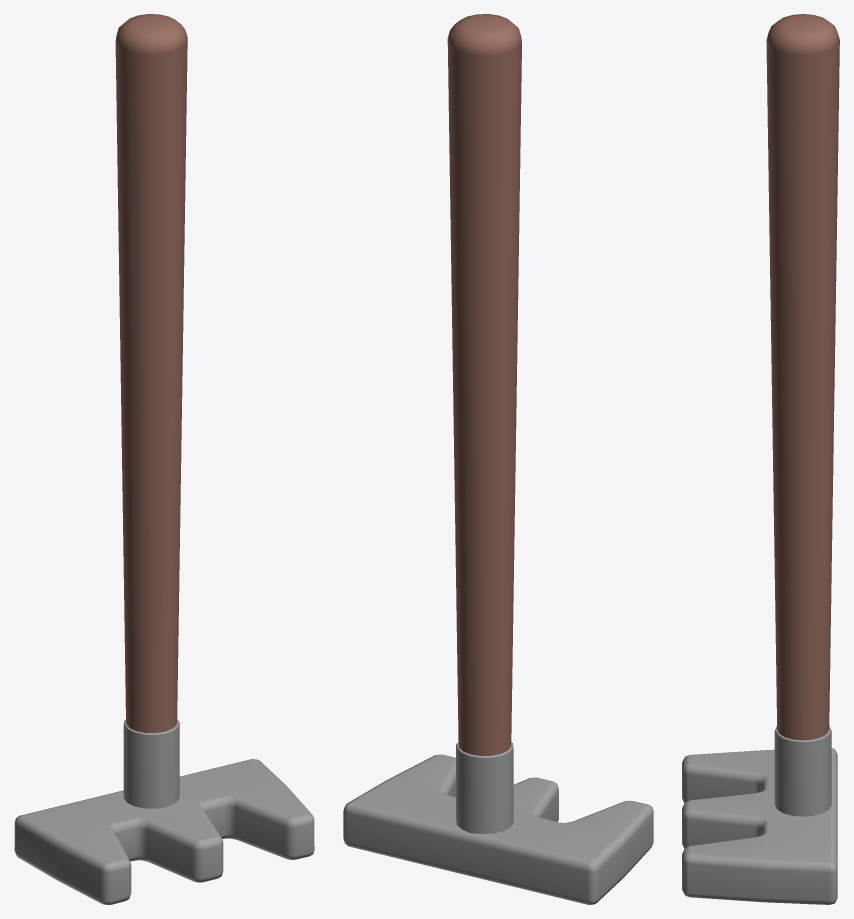
Rendered from Farm_4_Rake_1.glb.
The picture shows the model from 3 angles, left to right: view 1: azimuth 30°, elevation 25°; view 2: azimuth 150°, elevation 25°; view 3: azimuth 270°, elevation 25°; orthographic projection. The views are drawn at different scales.
Visible parts, largest first — view 1: Farm_4_Rake_1; view 2: Farm_4_Rake_1; view 3: Farm_4_Rake_1.
Part boxes in pixels (x1,y1,x2,y2): Farm_4_Rake_1: [14, 14, 314, 904]; Farm_4_Rake_1: [343, 14, 653, 904]; Farm_4_Rake_1: [682, 14, 839, 904].
Size of the model in its own units: 0.6264 by 1.99 by 0.3453.
Materials: 1 (1 with a texture image).
